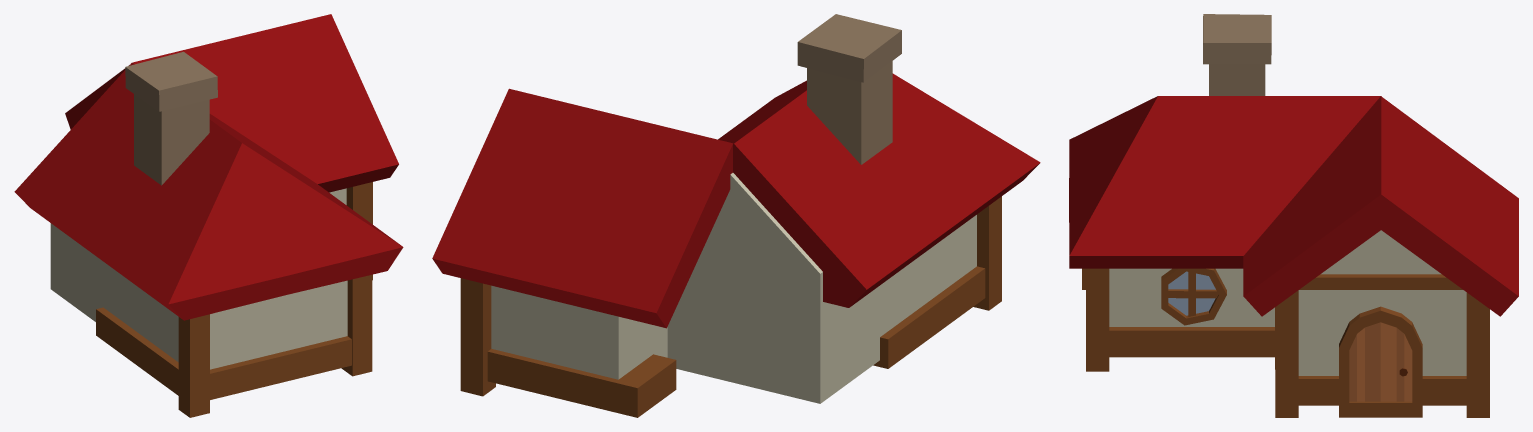
Rendered from cottage.fbx.
3 renders of one model, left to right at view 1: azimuth 30°, elevation 25°; view 2: azimuth 150°, elevation 25°; view 3: azimuth 270°, elevation 25°, orthographic. The views are drawn at different scales.
Parts seen in each view (by area): view 1: Cube.002, Cube.003, Cube.006, Cube.018, Cube.012, Cube.016, Cube.015, Cube.013; view 2: Cube.003, Cube.006, Cube.002, Cube.018, Cube.011, Cube.012, Cube.017, Cube.016; view 3: Cube.002, Cube.003, Cube.006, Cube.018, Cube.012, Cube.008, Cube.009, Cube.013, Cube.017, Cube.015, Cube.007, Cylinder.001 (+4 smaller).
Part boxes in pixels (<box>): Cube.002: <box>14,62,403,320</box>; Cube.003: <box>65,14,398,192</box>; Cube.006: <box>50,188,347,369</box>; Cube.018: <box>125,51,217,185</box>; Cube.012: <box>96,307,351,399</box>; Cube.016: <box>178,314,209,417</box>; Cube.015: <box>341,275,372,376</box>; Cube.013: <box>346,182,372,280</box>; Cube.003: <box>432,88,733,328</box>; Cube.006: <box>491,173,976,403</box>; Cube.002: <box>718,73,1040,307</box>; Cube.018: <box>797,14,901,164</box>; Cube.011: <box>487,349,676,417</box>; Cube.012: <box>873,266,985,368</box>; Cube.017: <box>460,278,495,396</box>; Cube.016: <box>973,196,1001,310</box>; Cube.002: <box>1069,96,1381,268</box>; Cube.003: <box>1243,96,1518,316</box>; Cube.006: <box>1109,230,1466,375</box>; Cube.018: <box>1203,14,1271,95</box>; Cube.012: <box>1109,327,1274,357</box>; Cube.008: <box>1349,322,1412,401</box>; Cube.009: <box>1339,306,1422,417</box>; Cube.013: <box>1275,290,1298,417</box>; Cube.017: <box>1466,292,1489,417</box>; Cube.015: <box>1086,268,1109,371</box>; Cube.007: <box>1299,274,1462,289</box>; Cylinder.001: <box>1161,268,1226,325</box>.
Size of the model in its own units: 723 by 604 by 876.
